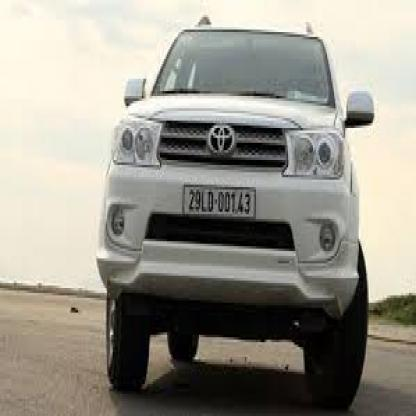biensoxe: (183, 184, 257, 222)
